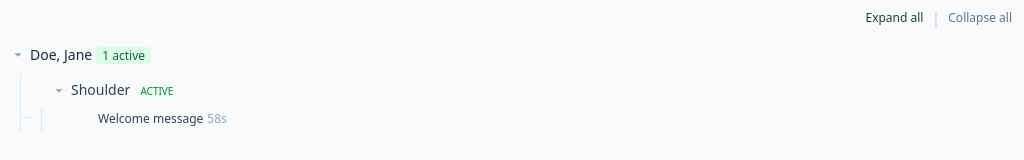
Test case: ActivityTree › Expand all restores branches
Click the button "Collapse all". click: click(980, 18)
box: [948,10,1012,26]
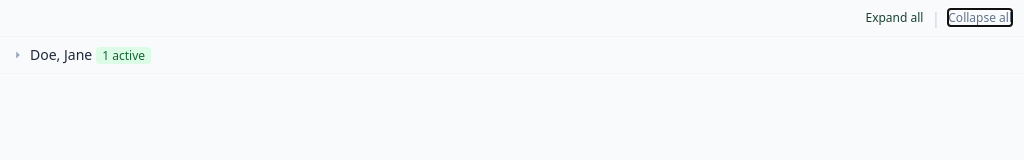
Click the button "Expand all". click: click(894, 18)
box: [866,10,924,26]
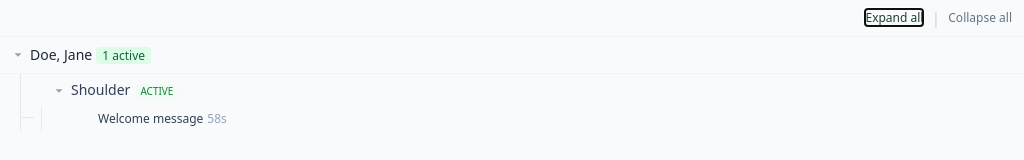
Expected: the text "Shoulder" is shown, [71,80,130,99]
Expected: the text "Welcome message" is shown, [98,110,203,127]
